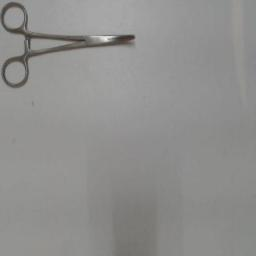Crile Artery Forceps: (1, 0, 141, 88)
